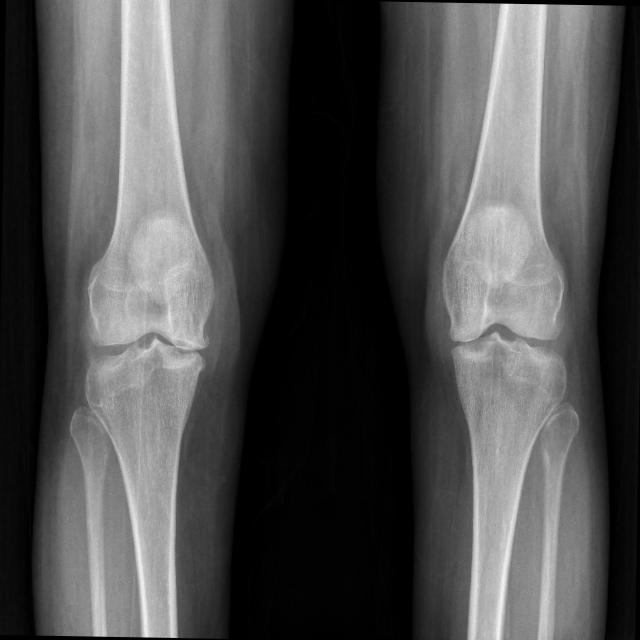Knee: (438, 278, 570, 399), (80, 280, 210, 402)
